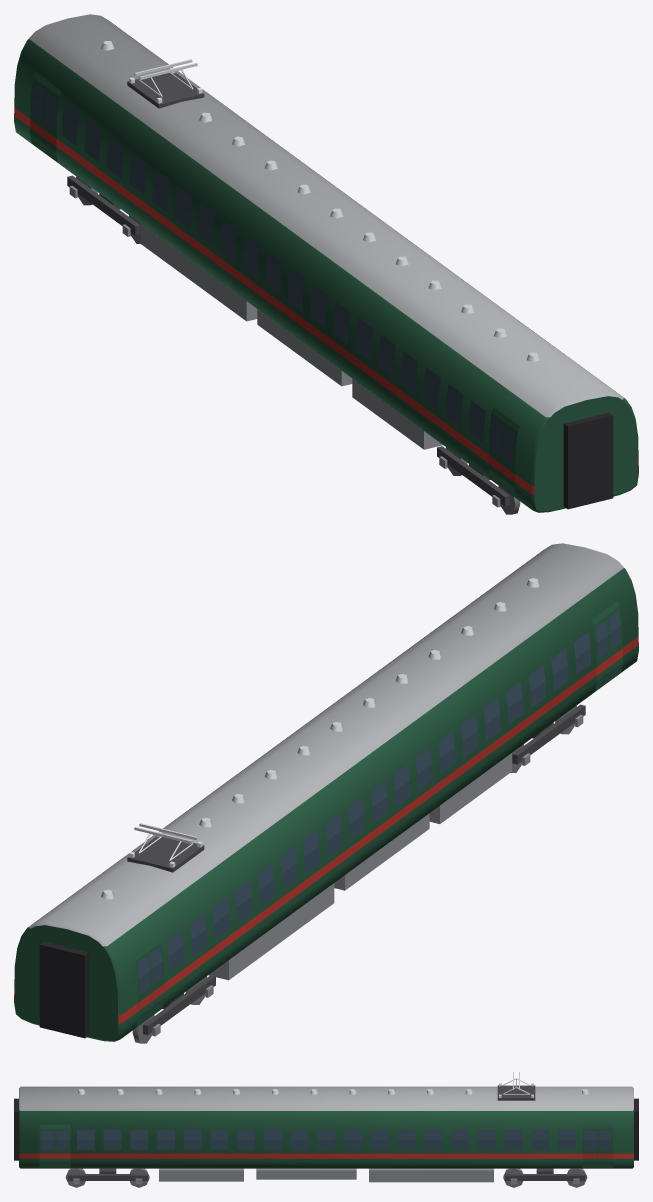
Rendered from middle_3.fbx.
3 renders of one model, top to bottom at view 1: azimuth 30°, elevation 25°; view 2: azimuth 150°, elevation 25°; view 3: azimuth 270°, elevation 25°, orthographic. The views are drawn at different scales.
Visible parts, largest first — view 1: 21_middle_3; view 2: 21_middle_3; view 3: 21_middle_3.
Boxes of the visible parts, <box> form: 21_middle_3: <box>14,14,638,514</box>; 21_middle_3: <box>14,543,638,1043</box>; 21_middle_3: <box>14,1072,638,1187</box>.
Size of the model in its own units: 2.97 by 4.35 by 25.
